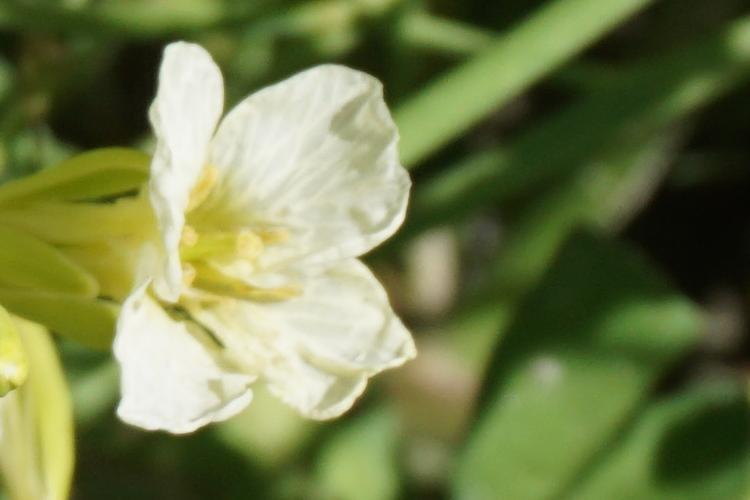white: (6, 40, 423, 447)
